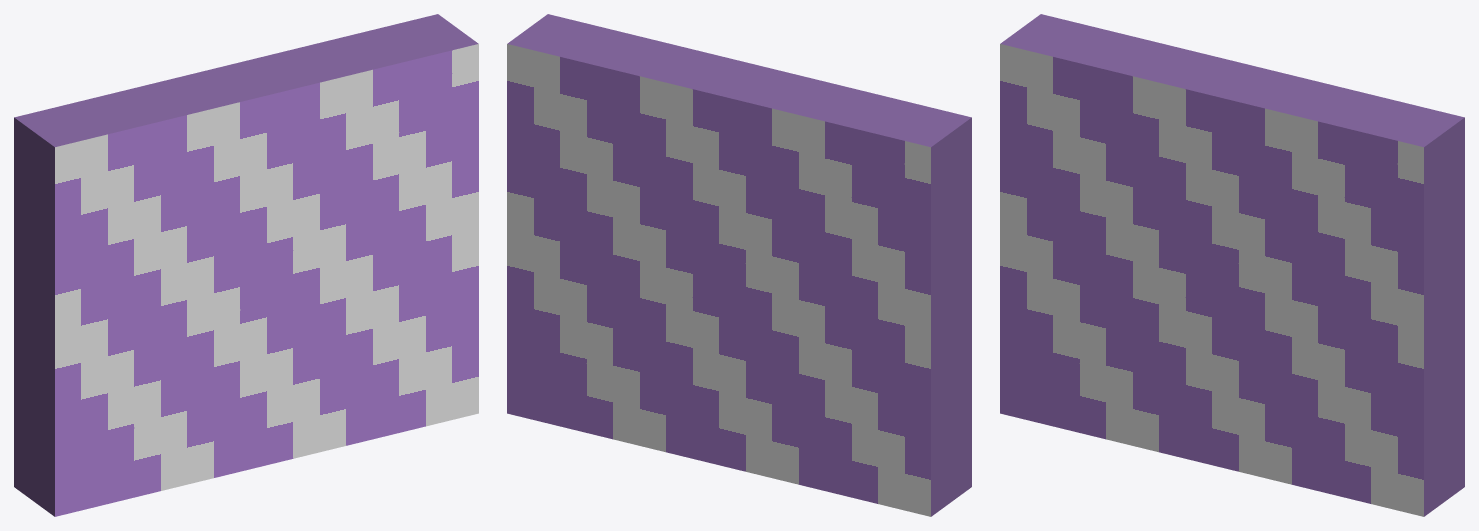
The model's file is crash_wall_med_obstical.gltf.
3 views of the same model, side by side, from view 1: azimuth 30°, elevation 25°; view 2: azimuth 150°, elevation 25°; view 3: azimuth 330°, elevation 25° (orthographic).
Parts seen in each view (by area): view 1: cube; view 2: cube; view 3: cube.
Part boxes in pixels (left/top/right/bottom): cube: left=14, top=14, right=478, bottom=516; cube: left=507, top=14, right=971, bottom=516; cube: left=1000, top=14, right=1464, bottom=516.
Size of the model in its own units: 0.75 by 0.625 by 0.125.
Materials: 1 (1 with a texture image).
